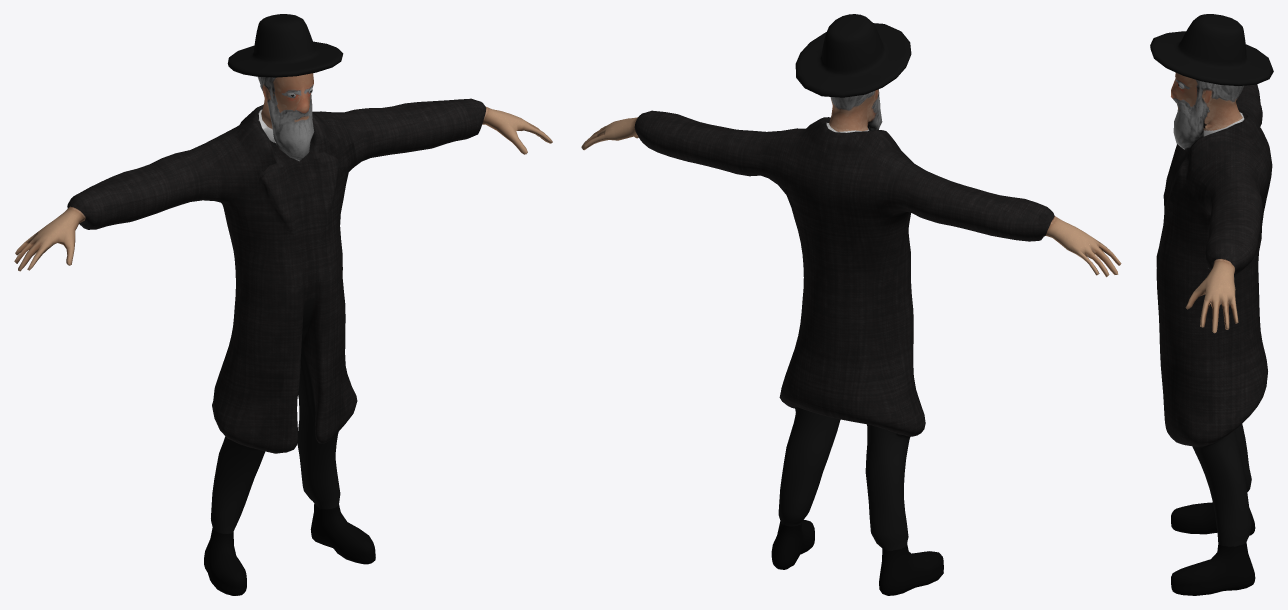
File: Rabinas_04_LP.fbx
3 views of the same model, side by side, from view 1: azimuth 30°, elevation 25°; view 2: azimuth 150°, elevation 25°; view 3: azimuth 270°, elevation 25° (orthographic).
Parts seen in each view (by area): view 1: Rabino_akys1:Group40788; view 2: Rabino_akys1:Group40788; view 3: Rabino_akys1:Group40788.
Boxes of the visible parts, box(x1,y1,x2,y2) form: Rabino_akys1:Group40788: box(14, 14, 552, 595); Rabino_akys1:Group40788: box(581, 14, 1121, 595); Rabino_akys1:Group40788: box(1150, 14, 1273, 595).
Size of the model in its own units: 1.75 by 1.72 by 0.3568.
1 material, 1 textured.
